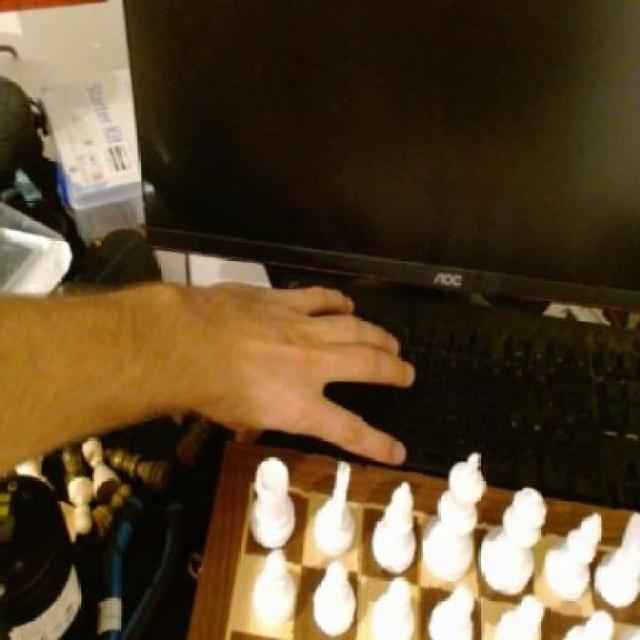black-rook: (544, 504, 606, 606), (371, 474, 425, 578)
white-bishop: (425, 450, 486, 582)
white-king: (309, 456, 366, 562), (596, 506, 640, 609)
white-knight: (250, 551, 306, 633), (308, 558, 364, 640), (366, 572, 414, 640), (428, 578, 478, 640), (488, 592, 550, 640), (560, 606, 614, 639)
white-pawn: (483, 482, 547, 598)
white-queen: (249, 446, 303, 565)
